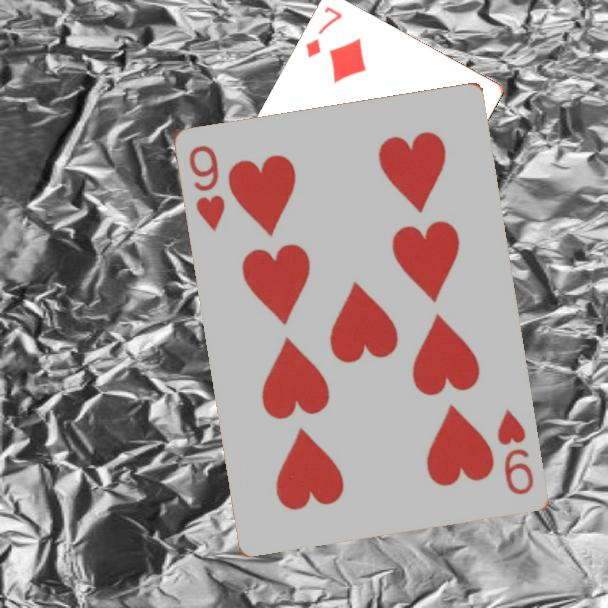d07: (302, 3, 345, 61)
h09: (186, 142, 229, 235), (494, 406, 537, 498)
